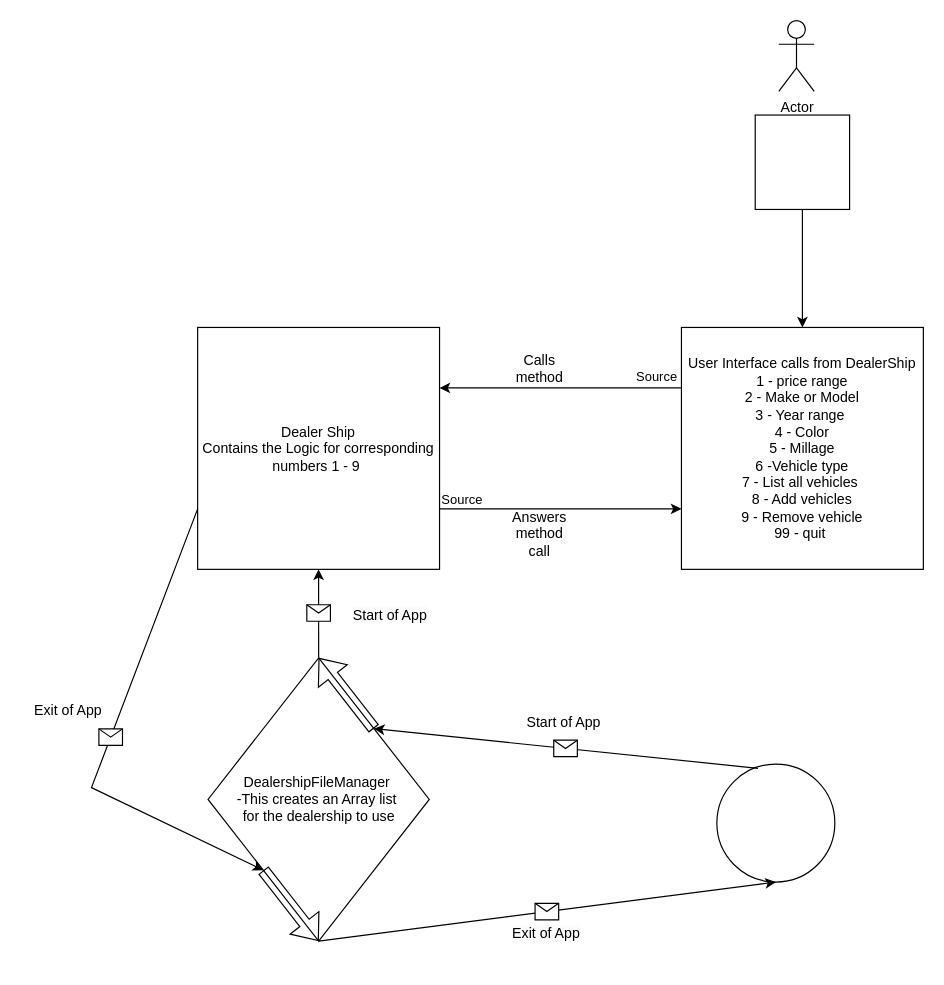
The diagram is 944 pixels wide and 985 high, and some of its shapes have lost their labels. Here are the shapes that lost their labels. From the top down, the centre of each, then its label:
At (802,161): "Main".
At (775,822): "inventory.csv".
